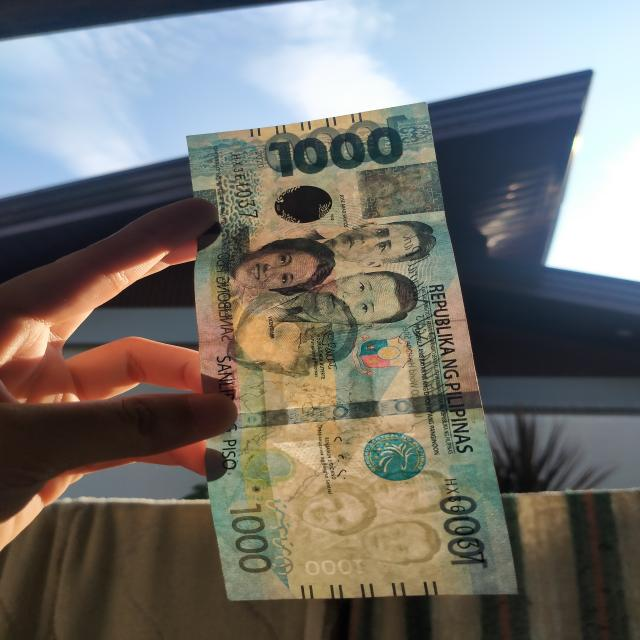concealed_value: (359, 160, 445, 219)
optically_variable_device: (251, 176, 346, 230)
security_thread: (233, 388, 481, 430)
see_through_mark: (262, 496, 300, 579)
value_watermark: (294, 551, 371, 575)
watermark: (294, 464, 449, 564)
